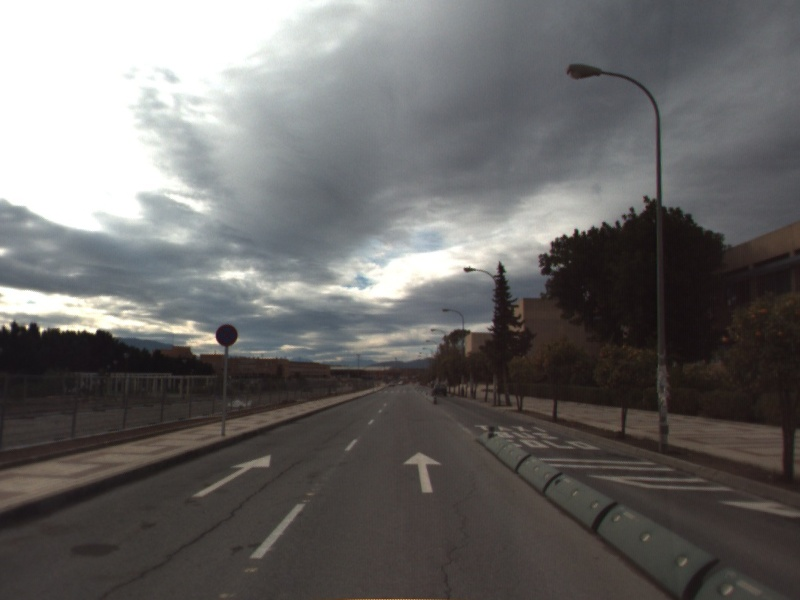STRAIGHT: (189, 453, 273, 499), (400, 450, 444, 495)
